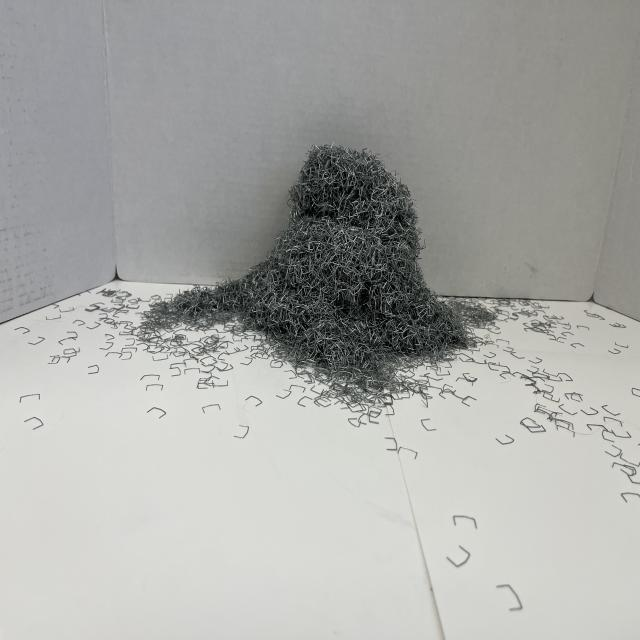staples: (138, 140, 477, 379)
